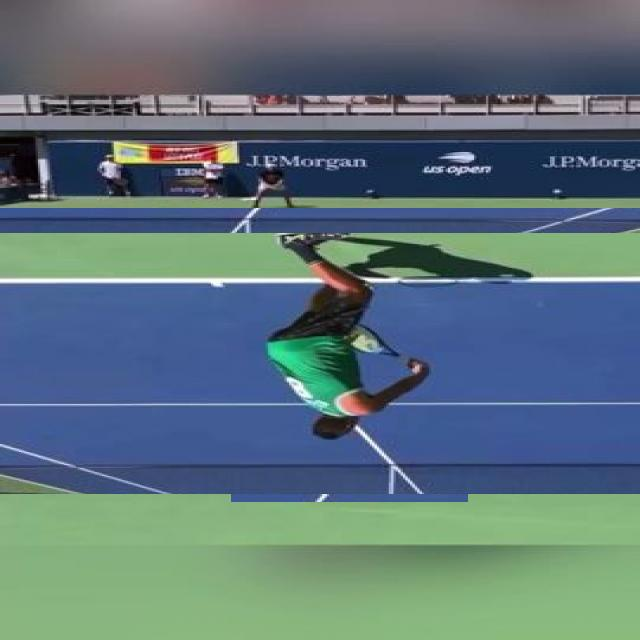court: (0, 234, 640, 496)
net: (0, 208, 640, 274)
player: (231, 276, 468, 502)
